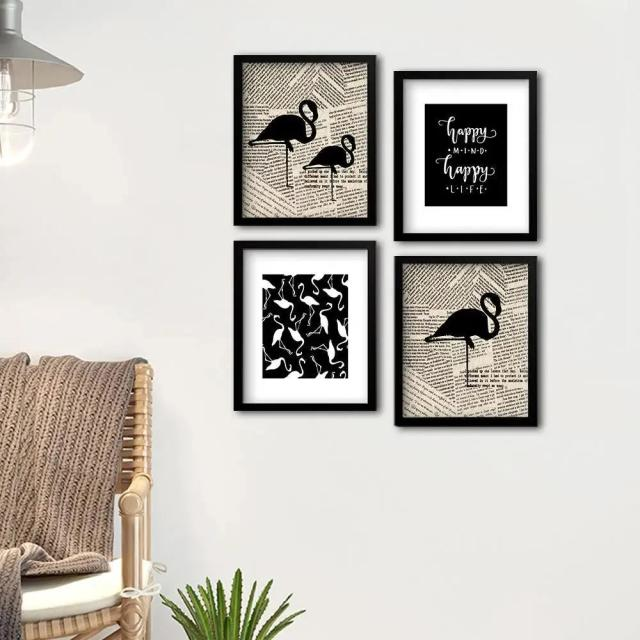painting: (394, 70, 538, 243), (235, 240, 379, 413), (234, 52, 378, 224), (394, 257, 538, 429)
